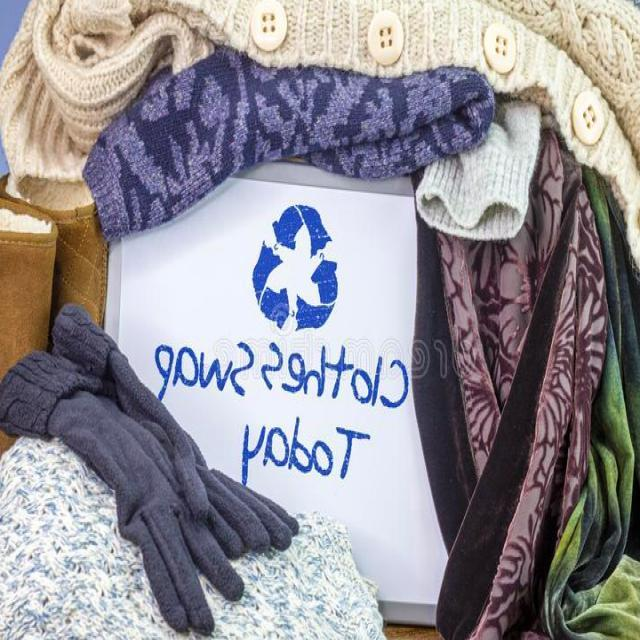clothes: (0, 0, 640, 245), (407, 0, 640, 640), (0, 312, 373, 640)
